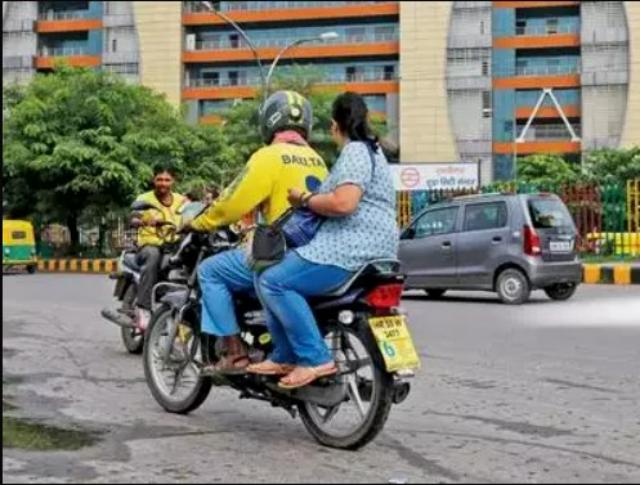licensePlate: (372, 319, 415, 354)
motorcycle: (141, 82, 428, 450)
withHelmet: (252, 86, 314, 137)
withoutHelmet: (335, 93, 374, 142)
